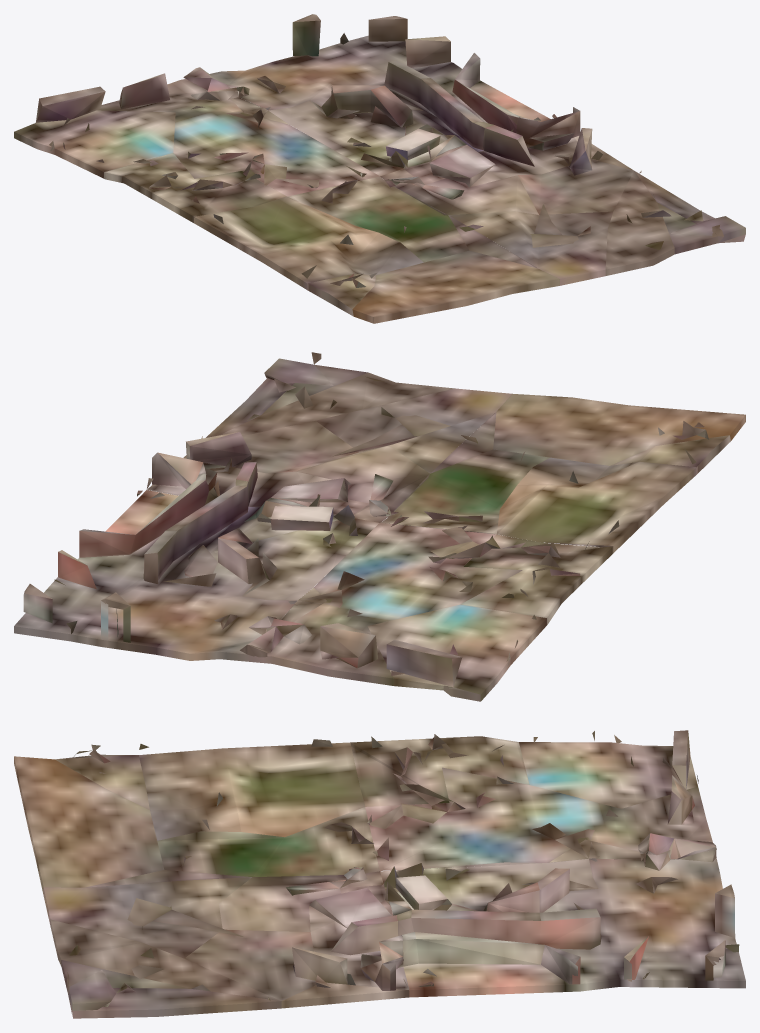
The picture shows the model from 3 angles, top to bottom: view 1: azimuth 30°, elevation 25°; view 2: azimuth 150°, elevation 25°; view 3: azimuth 270°, elevation 25°; orthographic projection. The views are drawn at different scales.
Parts seen in each view (by area): view 1: Mesh_0; view 2: Mesh_0; view 3: Mesh_0.
Boxes of the visible parts, x1,y1,x2,y2 form: Mesh_0: [14, 14, 745, 323]; Mesh_0: [14, 352, 745, 701]; Mesh_0: [14, 730, 745, 1018].
Bounding box in the file's own units: 533 × 61.79 × 659.
Materials: 1 (1 with a texture image).
